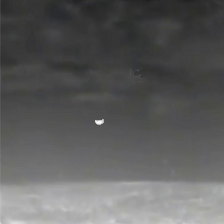Target: (94, 118, 104, 126)
